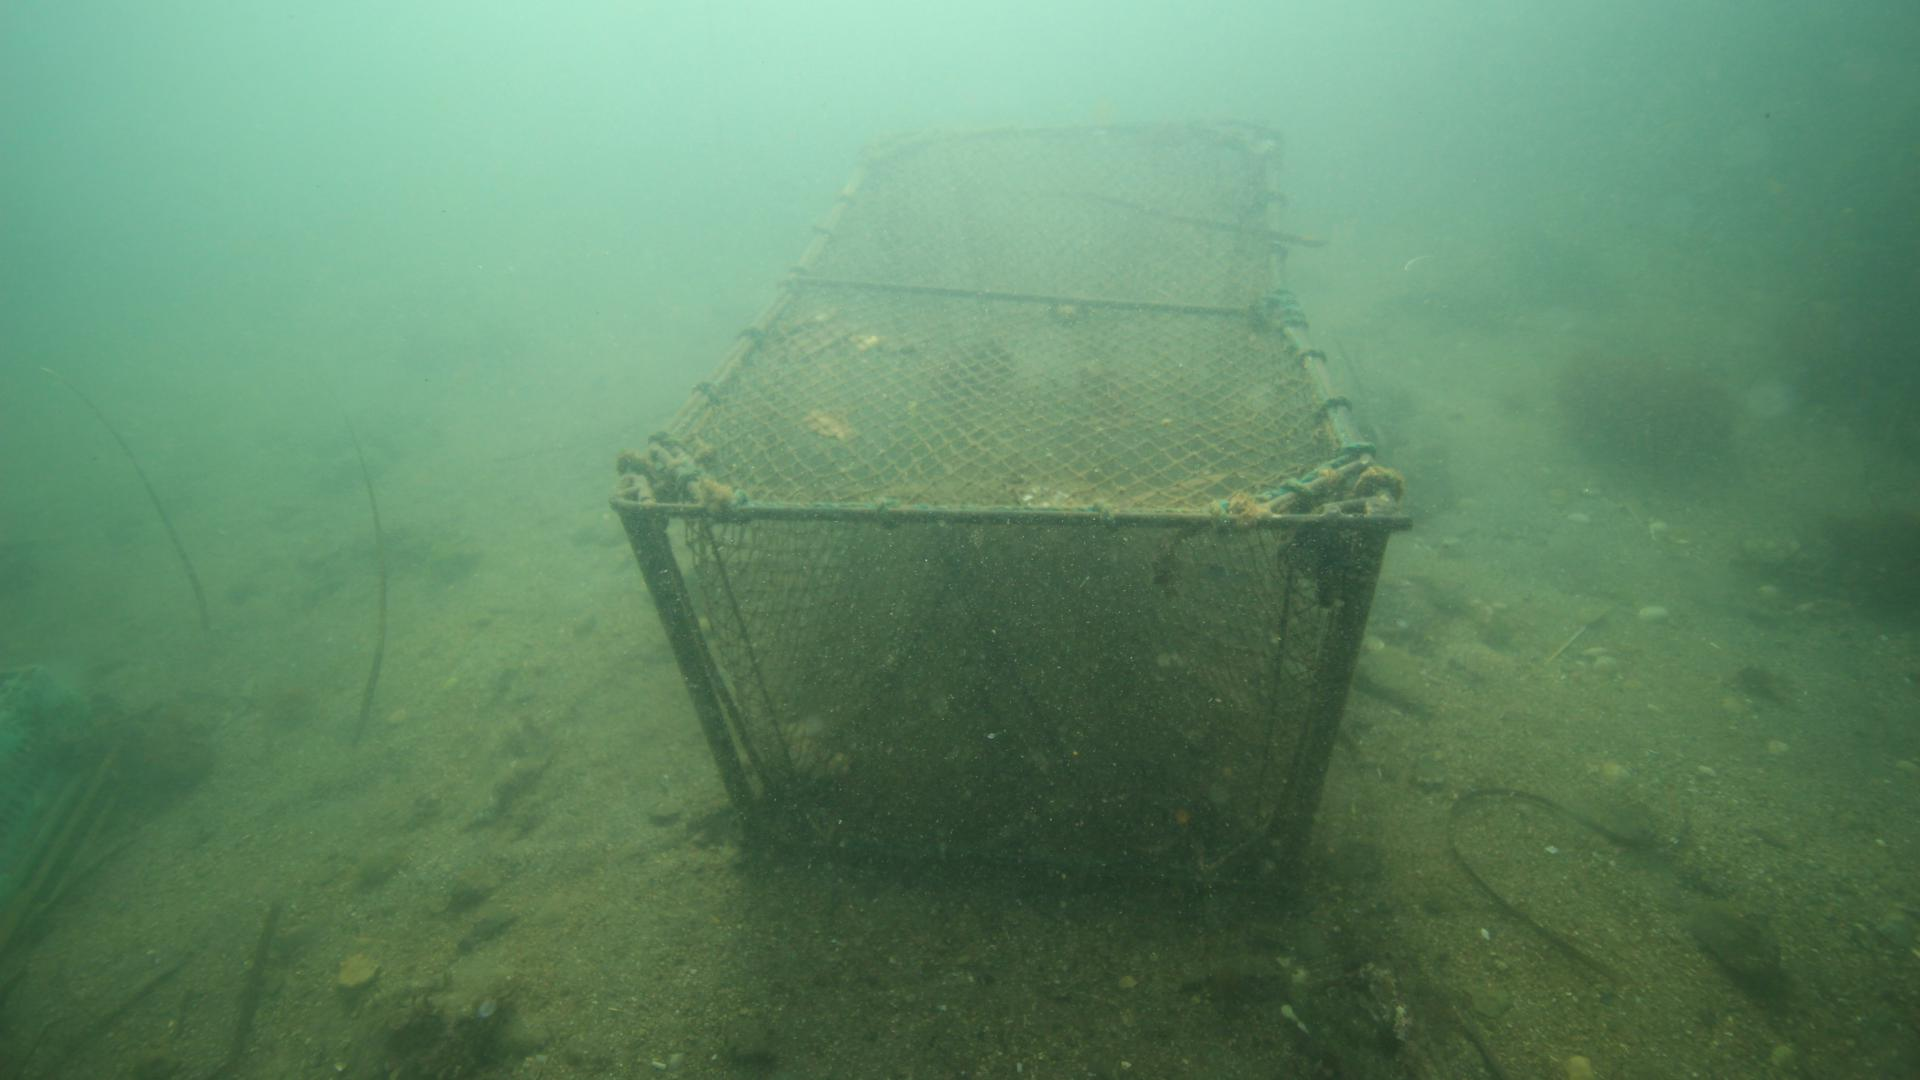rectangular fish trap: (608, 116, 1414, 903)
